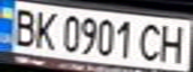0: (57, 11, 81, 54), (97, 16, 118, 57)
1: (115, 17, 136, 60)
9: (78, 14, 100, 56)
B: (6, 4, 39, 47)
C: (136, 20, 166, 62)
H: (157, 21, 190, 64)
K: (30, 7, 60, 51)
